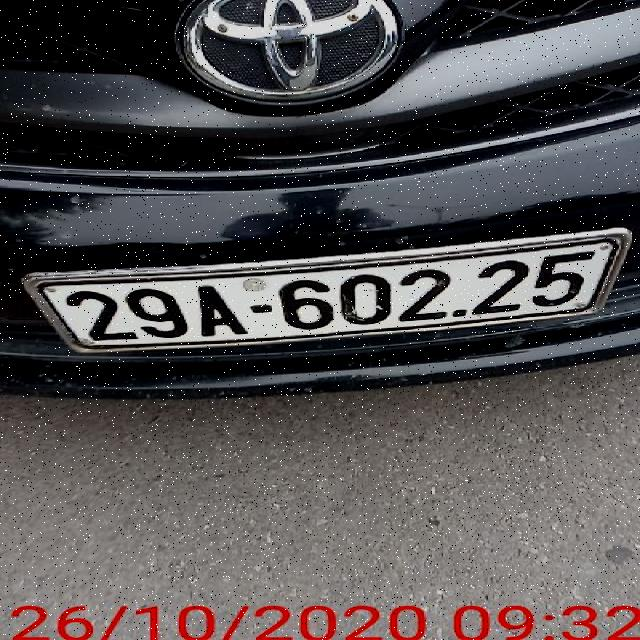0: (337, 273, 394, 326)
2: (62, 288, 138, 344), (469, 258, 532, 316), (397, 267, 453, 321)
5: (531, 250, 597, 308)
6: (275, 277, 336, 330)
9: (124, 286, 192, 342)
A: (189, 283, 250, 338)
